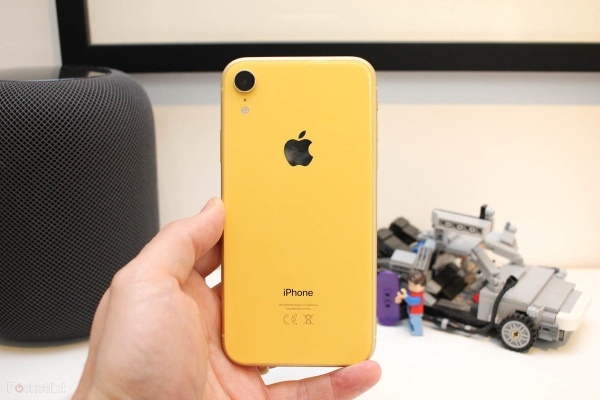apple: (278, 125, 316, 184)
